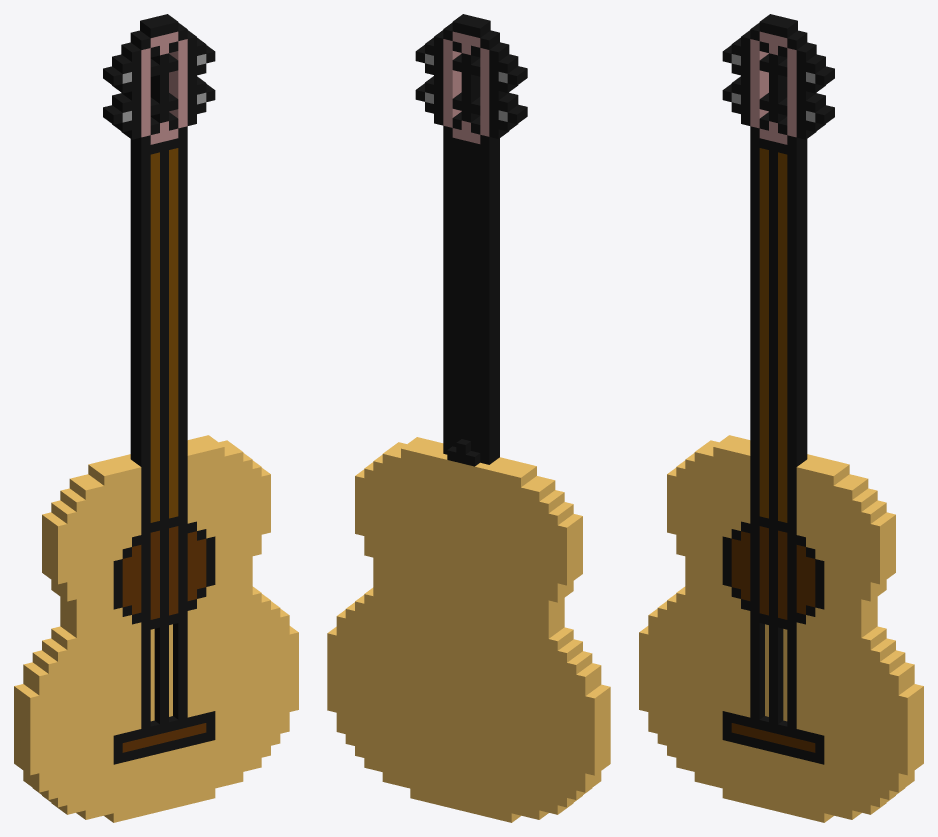
The model's file is guitar.obj.
3 views of the same model, side by side, from view 1: azimuth 30°, elevation 25°; view 2: azimuth 150°, elevation 25°; view 3: azimuth 330°, elevation 25° (orthographic).
Bounding box in the file's own units: 2.9 × 8.1 × 0.3.
1 material, 1 textured.
